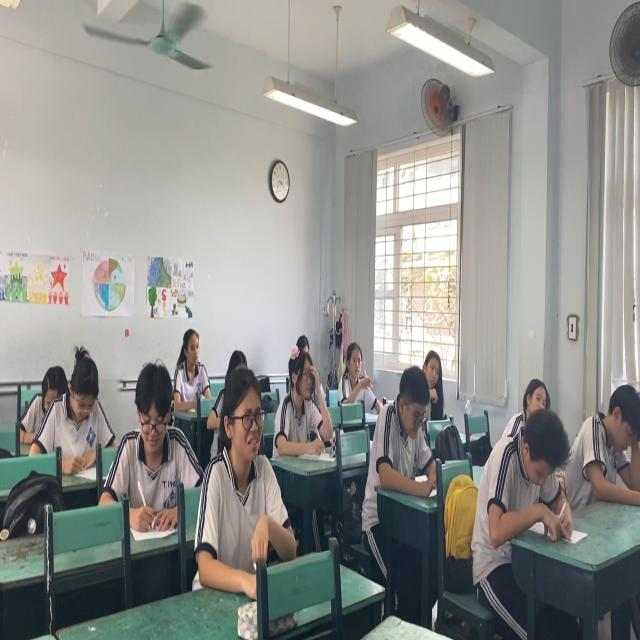not_cheating: (203, 364, 289, 564), (482, 381, 571, 547), (110, 346, 194, 506), (575, 381, 640, 513), (42, 343, 116, 457), (380, 367, 440, 506), (274, 347, 336, 460), (175, 319, 211, 402), (336, 337, 375, 412), (414, 344, 444, 412)
